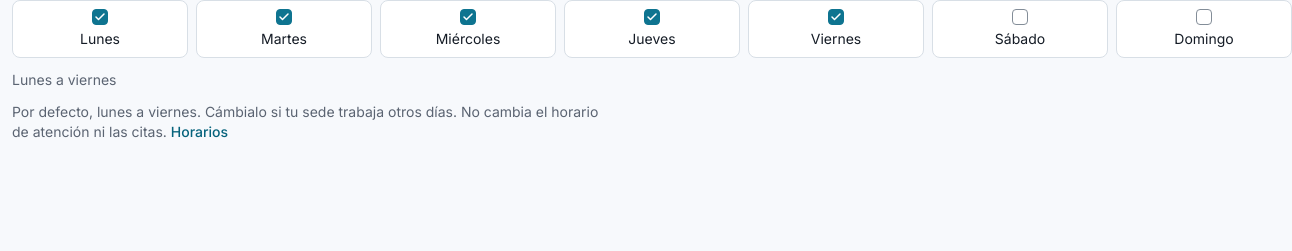
Test: WorkingWeekdaysForm (DX-316, spec §7.2) › saving [Sun–Thu] sends [0,1,2,3,4] and shows «Guardado»
The width and height of the screenshot is (1292, 251).
Step 1. Click the checkbox labelled "Viernes" → {"x": 836, "y": 17}, box [828,9,844,25]
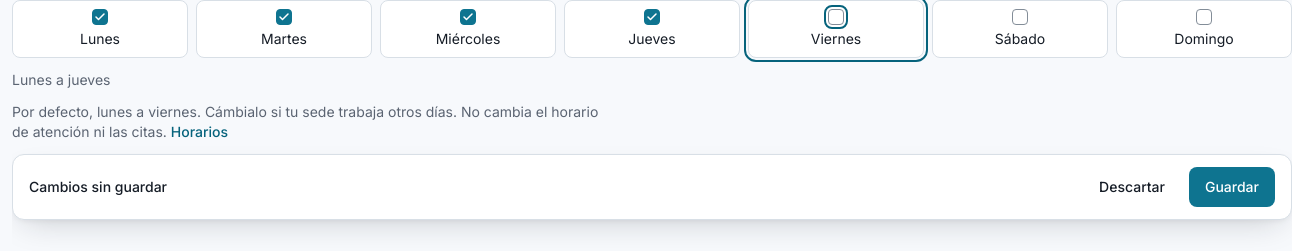
Step 2. Click the checkbox labelled "Domingo" → {"x": 1204, "y": 17}, box [1196,9,1212,25]
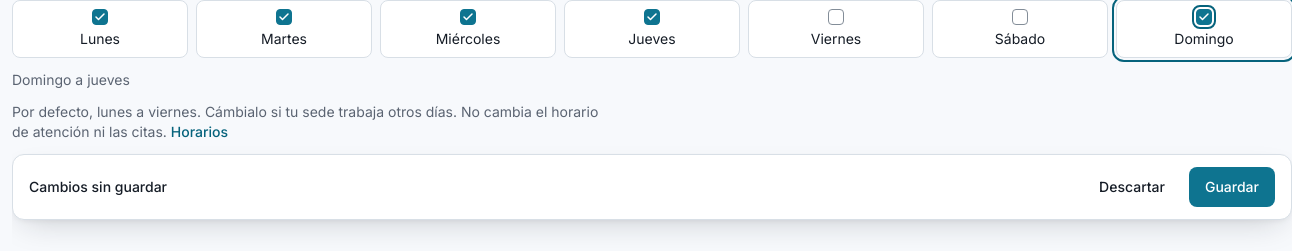
Expected: the text with test id "working-weekdays-summary" reads "Domingo a jueves", [12,71,130,88]
Step 3. Click the button with aria-label "Guardar días hábiles" → {"x": 1232, "y": 187}, box [1189,167,1275,207]
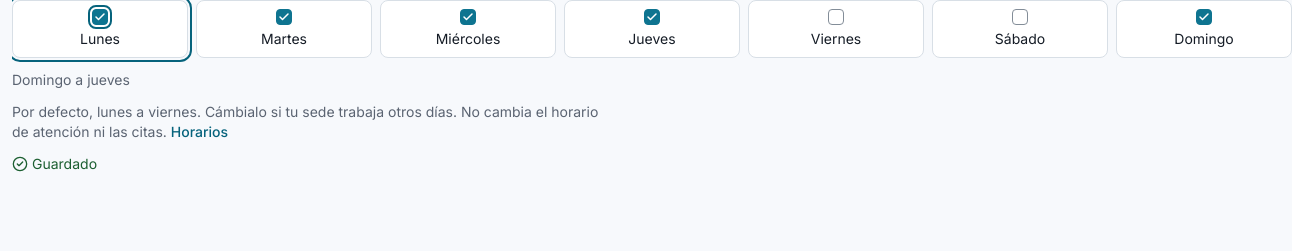
Expected: the message reads "Guardado", [32,155,97,172]
